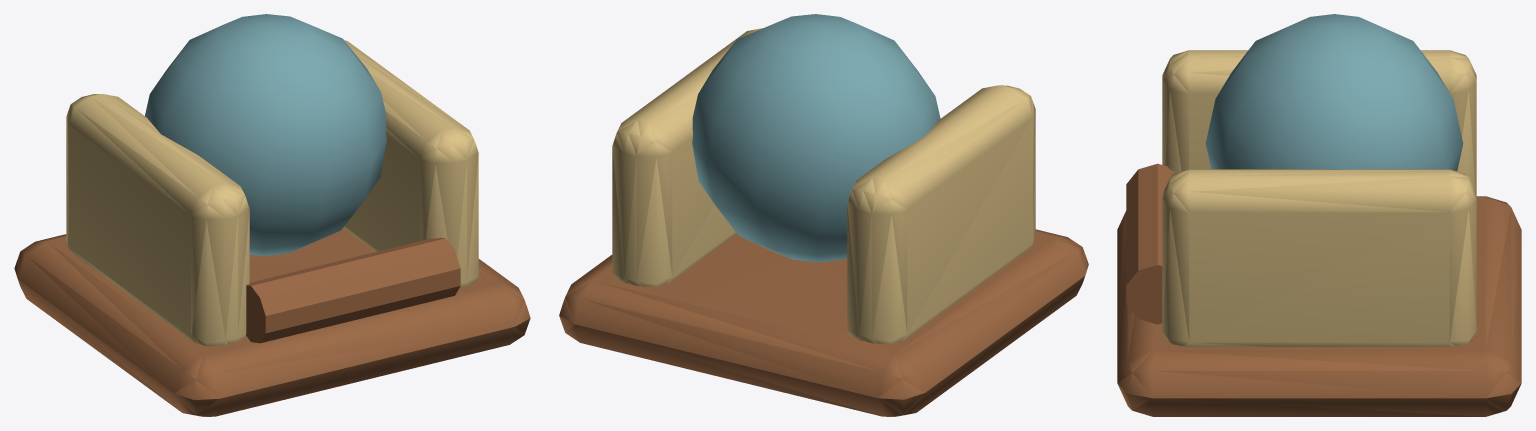
The model's file is DW_BoulderNest.fbx.
3 renders of one model, left to right at view 1: azimuth 30°, elevation 25°; view 2: azimuth 150°, elevation 25°; view 3: azimuth 270°, elevation 25°, orthographic. The views are drawn at different scales.
Parts seen in each view (by area): view 1: BoulderNest; view 2: BoulderNest; view 3: BoulderNest.
Part boxes in pixels (<box>): BoulderNest: <box>14,14,530,416</box>; BoulderNest: <box>559,14,1088,416</box>; BoulderNest: <box>1117,14,1521,416</box>.
Size of the model in its own units: 1.45 by 1.15 by 1.35.
